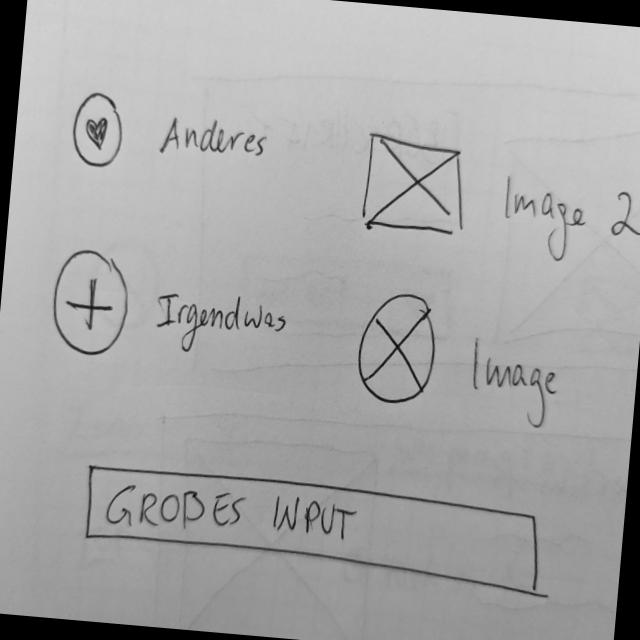icon-button: (47, 245, 136, 361), (68, 86, 128, 170)
image: (360, 125, 472, 238), (349, 286, 442, 406)
input: (78, 458, 552, 599)
label: (493, 168, 640, 271), (150, 286, 292, 364), (459, 328, 562, 432), (155, 110, 268, 167)
